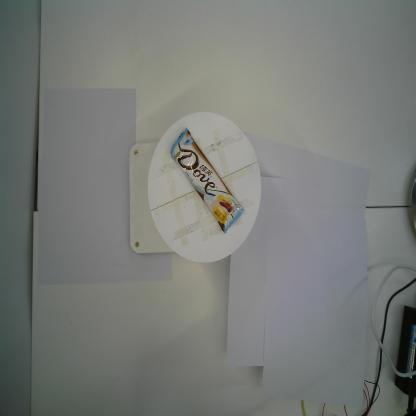Chocolate: (169, 126, 246, 235)
